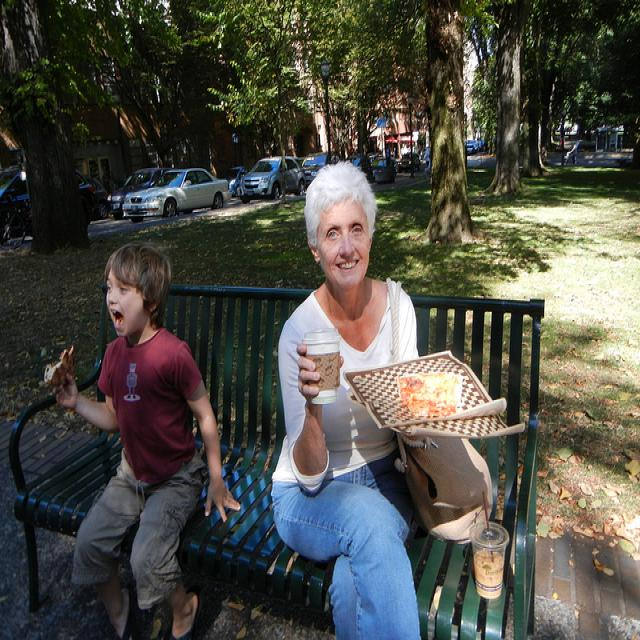Vehicle: (0, 167, 101, 237), (122, 164, 233, 224), (239, 155, 310, 204), (107, 167, 166, 220), (87, 176, 109, 218), (228, 166, 250, 197), (301, 153, 326, 176), (370, 157, 396, 179), (558, 132, 582, 151), (398, 153, 420, 173), (345, 156, 375, 170), (467, 140, 479, 154)
